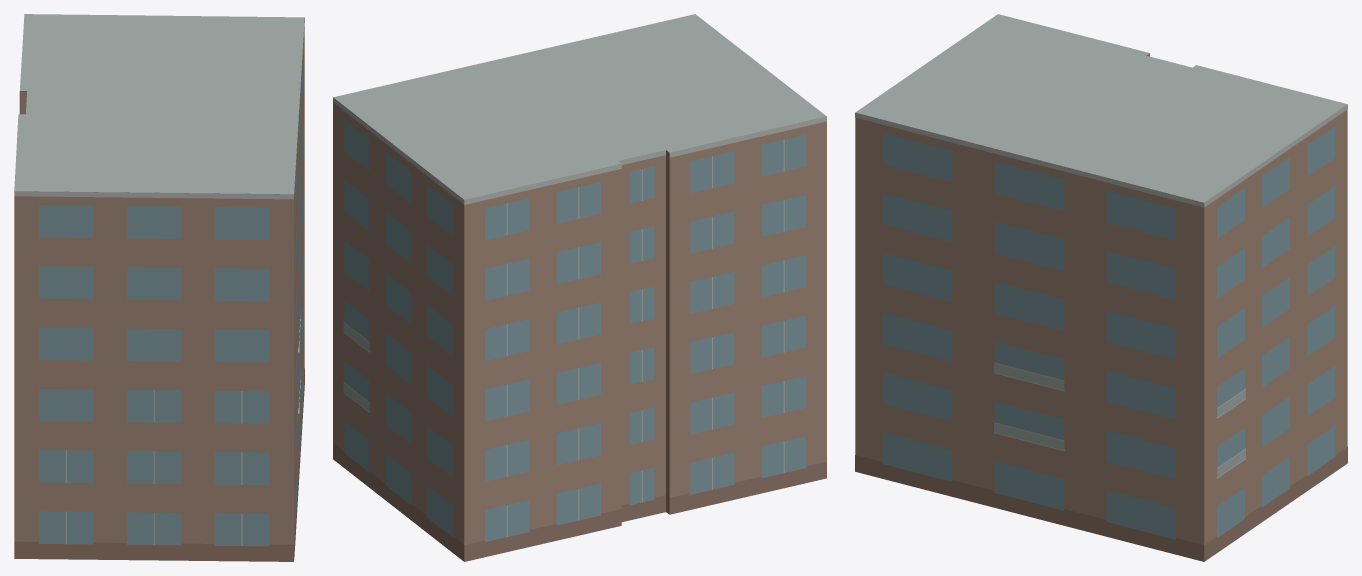
File: survey-upis-32658168.glb
The picture shows the model from 3 angles, left to right: view 1: azimuth 30°, elevation 25°; view 2: azimuth 150°, elevation 25°; view 3: azimuth 270°, elevation 25°; orthographic projection. The views are drawn at different scales.
Visible parts, largest first — view 1: survey-upis-32658168.tmp; view 2: survey-upis-32658168.tmp; view 3: survey-upis-32658168.tmp.
Part boxes in pixels (box(x1,y1,x2,y2)): survey-upis-32658168.tmp: box(14, 14, 304, 561); survey-upis-32658168.tmp: box(333, 14, 826, 561); survey-upis-32658168.tmp: box(855, 14, 1347, 561).
Bounding box in the file's own units: 19.85 × 17.6 × 21.89.
